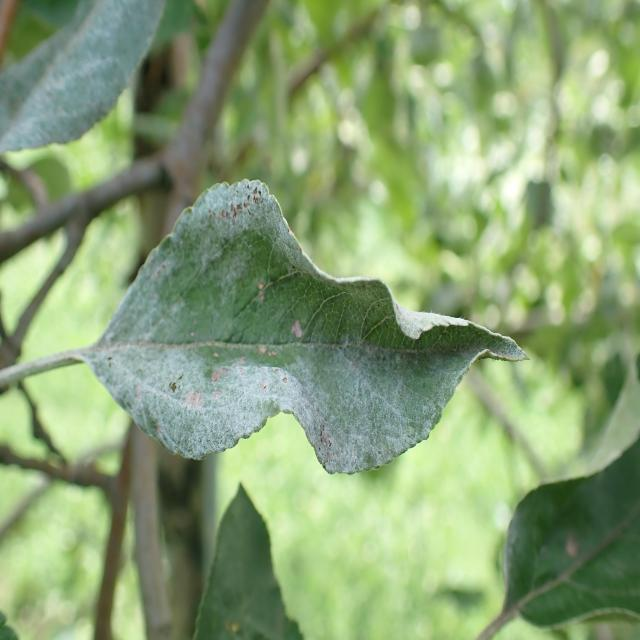Powdery_mildew: (89, 164, 514, 506), (0, 0, 166, 166)
